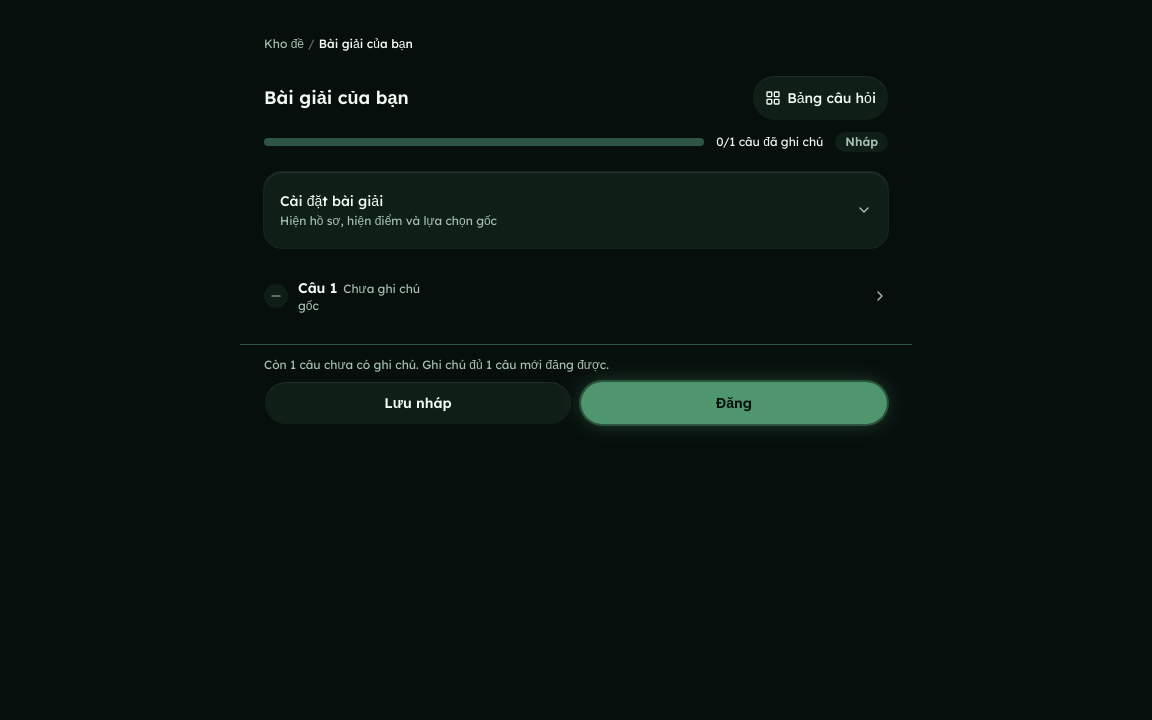
Scenario: SolutionEditorScreen — NoteSheet, DD-U5 hồi phục (Required Test #5) › Lưu lần hai thành công: đóng cả hộp thoại lẫn tấm trượt
Step 1. Click the button with aria-label "Câu 1," → click(318, 288), box [264, 268, 888, 324]
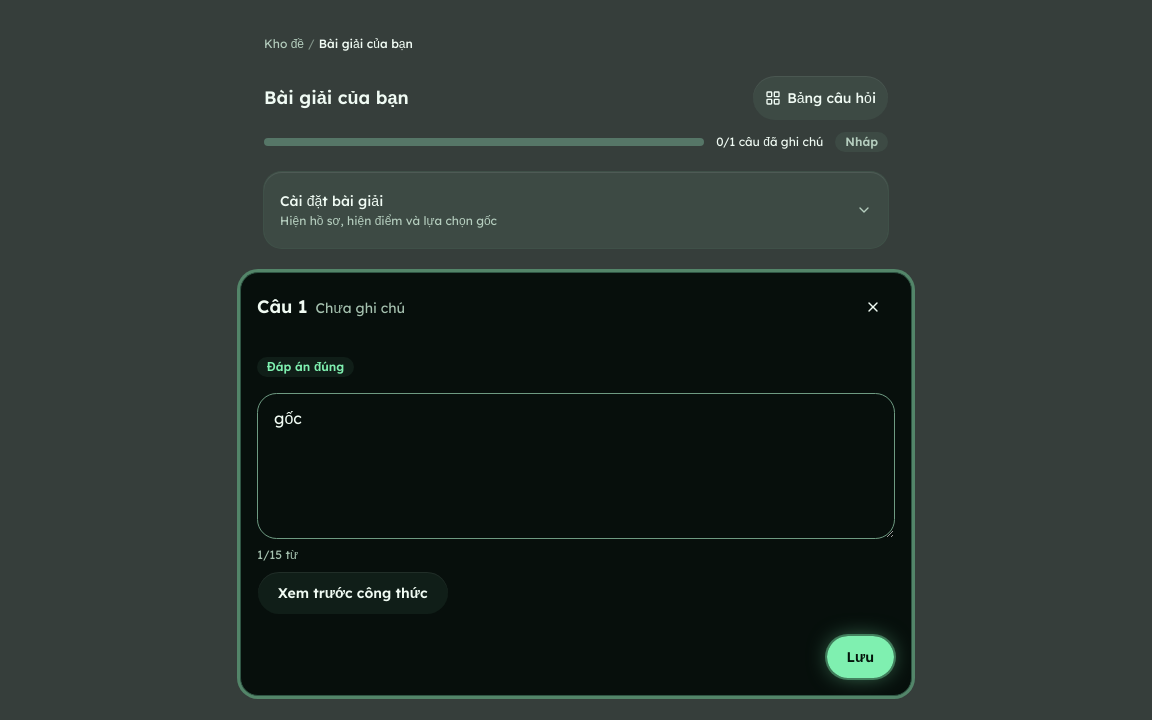
Step 2. Replace the text in the text box with "gốc đã sửa" → (576, 466), box [257, 393, 895, 539]
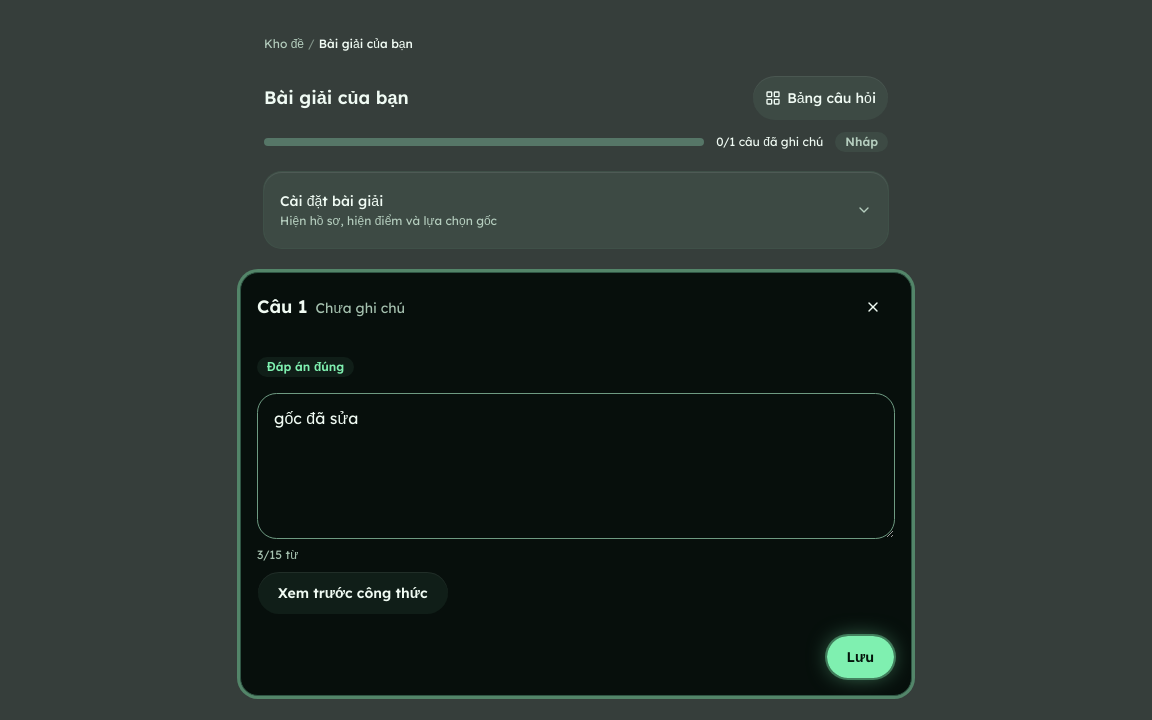
Step 3. Click the button named "Đóng" → click(873, 307), box [851, 285, 895, 329]
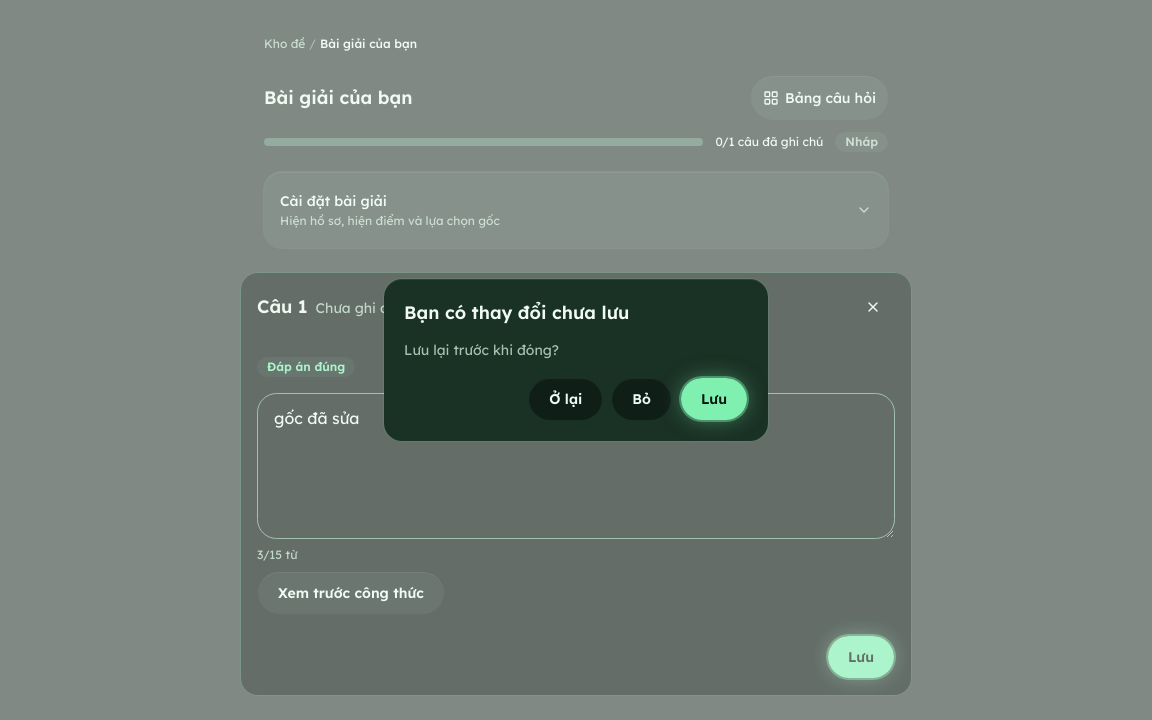
Step 4. Click the button "Lưu" → click(714, 399), box [680, 377, 748, 421]
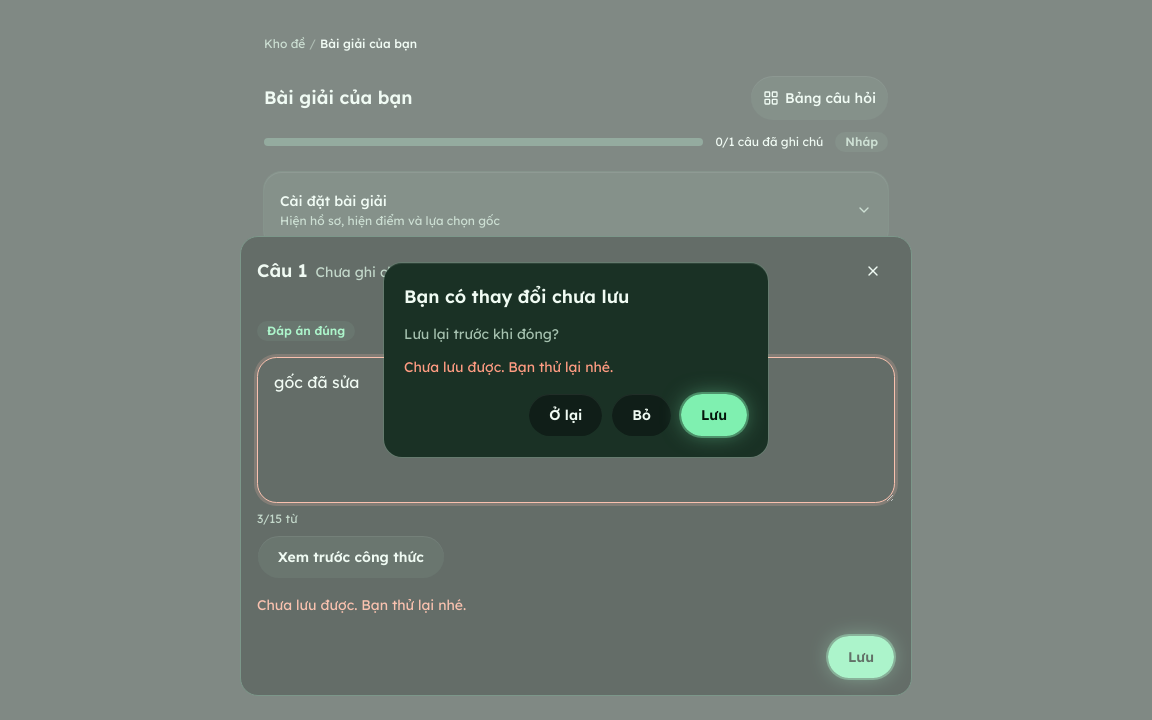
Expected: the text "Chưa lưu được. Bạn thử lại nhé." is shown, [404, 358, 613, 376]
Step 5. Click the button "Lưu" → click(714, 415), box [680, 393, 748, 437]
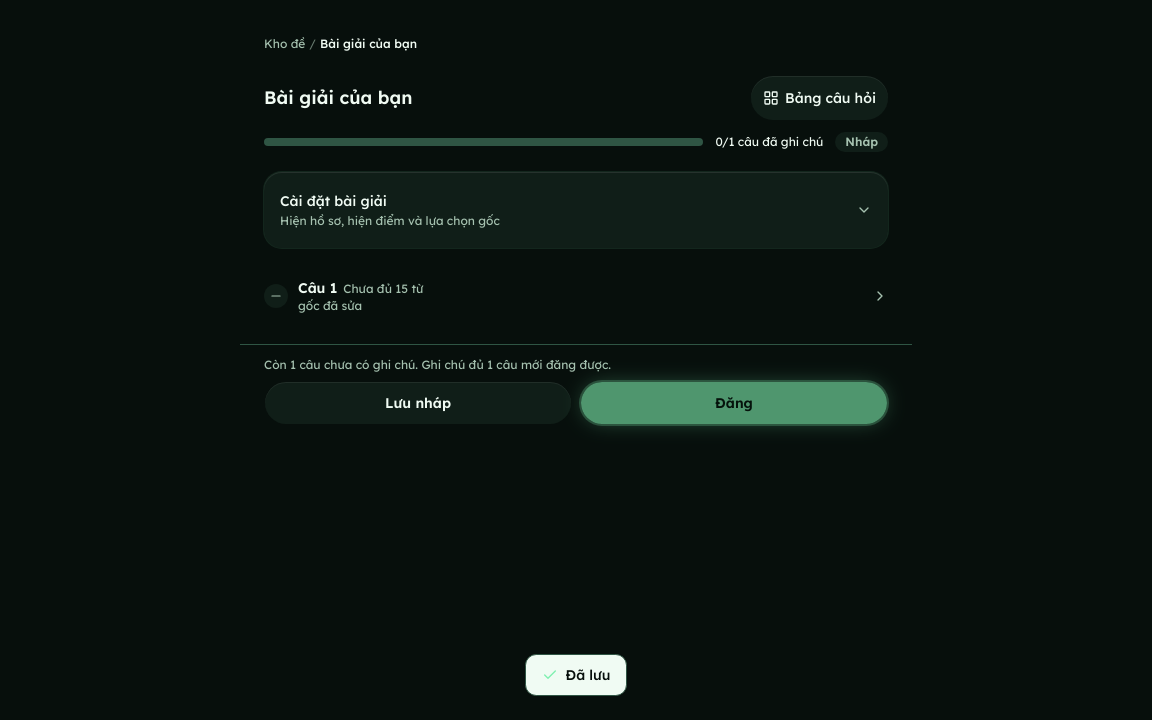
Expected: the dialog is gone
